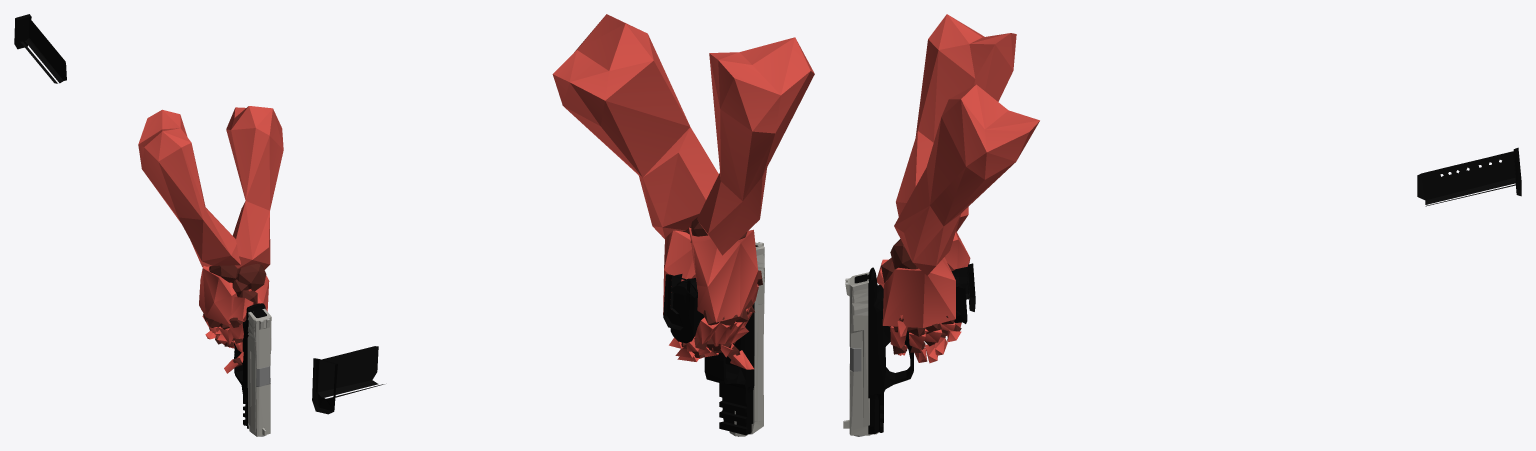
Rendered from M&P9reloadNormal1lowP_000152.obj.
The picture shows the model from 3 angles, left to right: view 1: azimuth 30°, elevation 25°; view 2: azimuth 150°, elevation 25°; view 3: azimuth 270°, elevation 25°; orthographic projection. The views are drawn at different scales.
Parts seen in each view (by area): view 1: Beta_Surface.001_Beta_Surface.002, slide_平面.002, Beta_Joints.001_Beta_Joints.002, magazine_平面.003, triger_平面.001; view 2: Beta_Surface.001_Beta_Surface.002, triger_平面.001, magazine_平面.003, slide_平面.002, Beta_Joints.001_Beta_Joints.002, magazine.002_平面.005; view 3: Beta_Surface.001_Beta_Surface.002, triger_平面.001, magazine_平面.003, slide_平面.002, Beta_Joints.001_Beta_Joints.002.
Boxes of the visible parts, x1,y1,x2,y2 form: Beta_Surface.001_Beta_Surface.002: (138,106,283,373); slide_平面.002: (247,308,271,436); Beta_Joints.001_Beta_Joints.002: (200,263,266,367); magazine_平面.003: (14,14,66,83); triger_平面.001: (233,303,270,436); Beta_Surface.001_Beta_Surface.002: (552,14,814,369); triger_平面.001: (670,278,754,436); magazine_平面.003: (312,346,384,414); slide_平面.002: (729,242,764,436); Beta_Joints.001_Beta_Joints.002: (671,217,762,361); magazine.002_平面.005: (663,274,690,330); Beta_Surface.001_Beta_Surface.002: (876,14,1039,363); triger_平面.001: (850,267,969,436); magazine_平面.003: (1417,147,1521,206); slide_平面.002: (843,272,878,435); Beta_Joints.001_Beta_Joints.002: (881,239,961,354).
Bounding box in the file's own units: 42.55 × 80.06 × 130.
